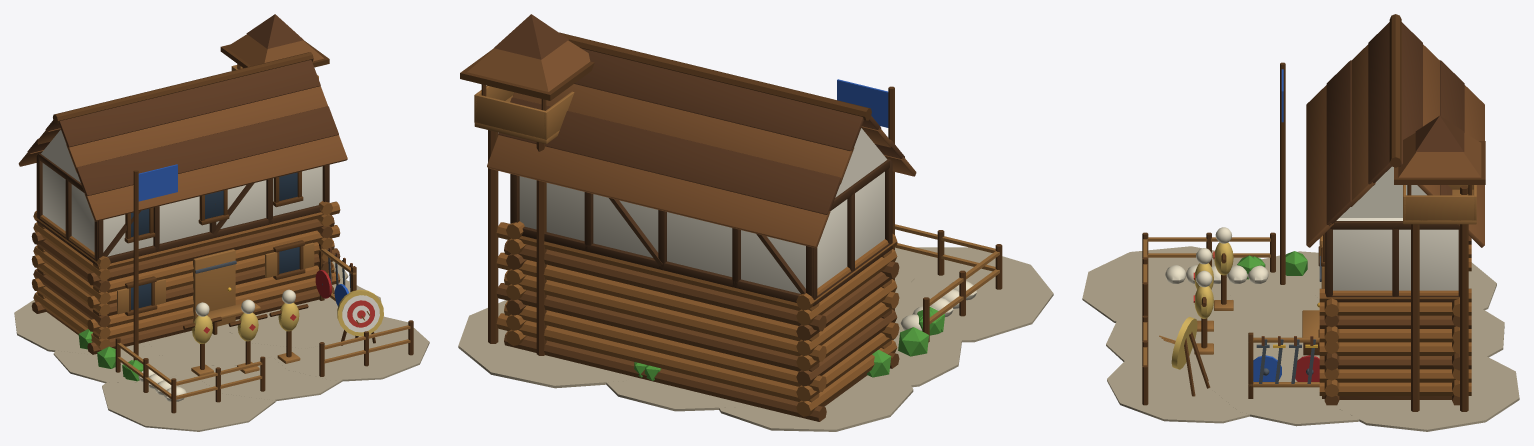
Rendered from koszary_poz10.glb.
The picture shows the model from 3 angles, left to right: view 1: azimuth 30°, elevation 25°; view 2: azimuth 150°, elevation 25°; view 3: azimuth 270°, elevation 25°; orthographic projection. The views are drawn at different scales.
Parts seen in each view (by area): view 1: koszary_poz10; view 2: koszary_poz10; view 3: koszary_poz10.
Boxes of the visible parts, bbox=[...] form: koszary_poz10: bbox=[14, 14, 429, 431]; koszary_poz10: bbox=[458, 14, 1053, 431]; koszary_poz10: bbox=[1082, 14, 1519, 431].
Size of the model in its own units: 8.86 by 6.56 by 8.91.
